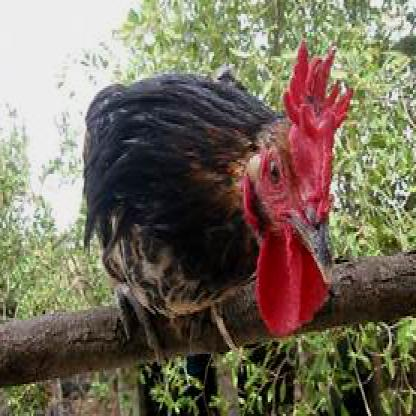chicken: (79, 36, 355, 340)
